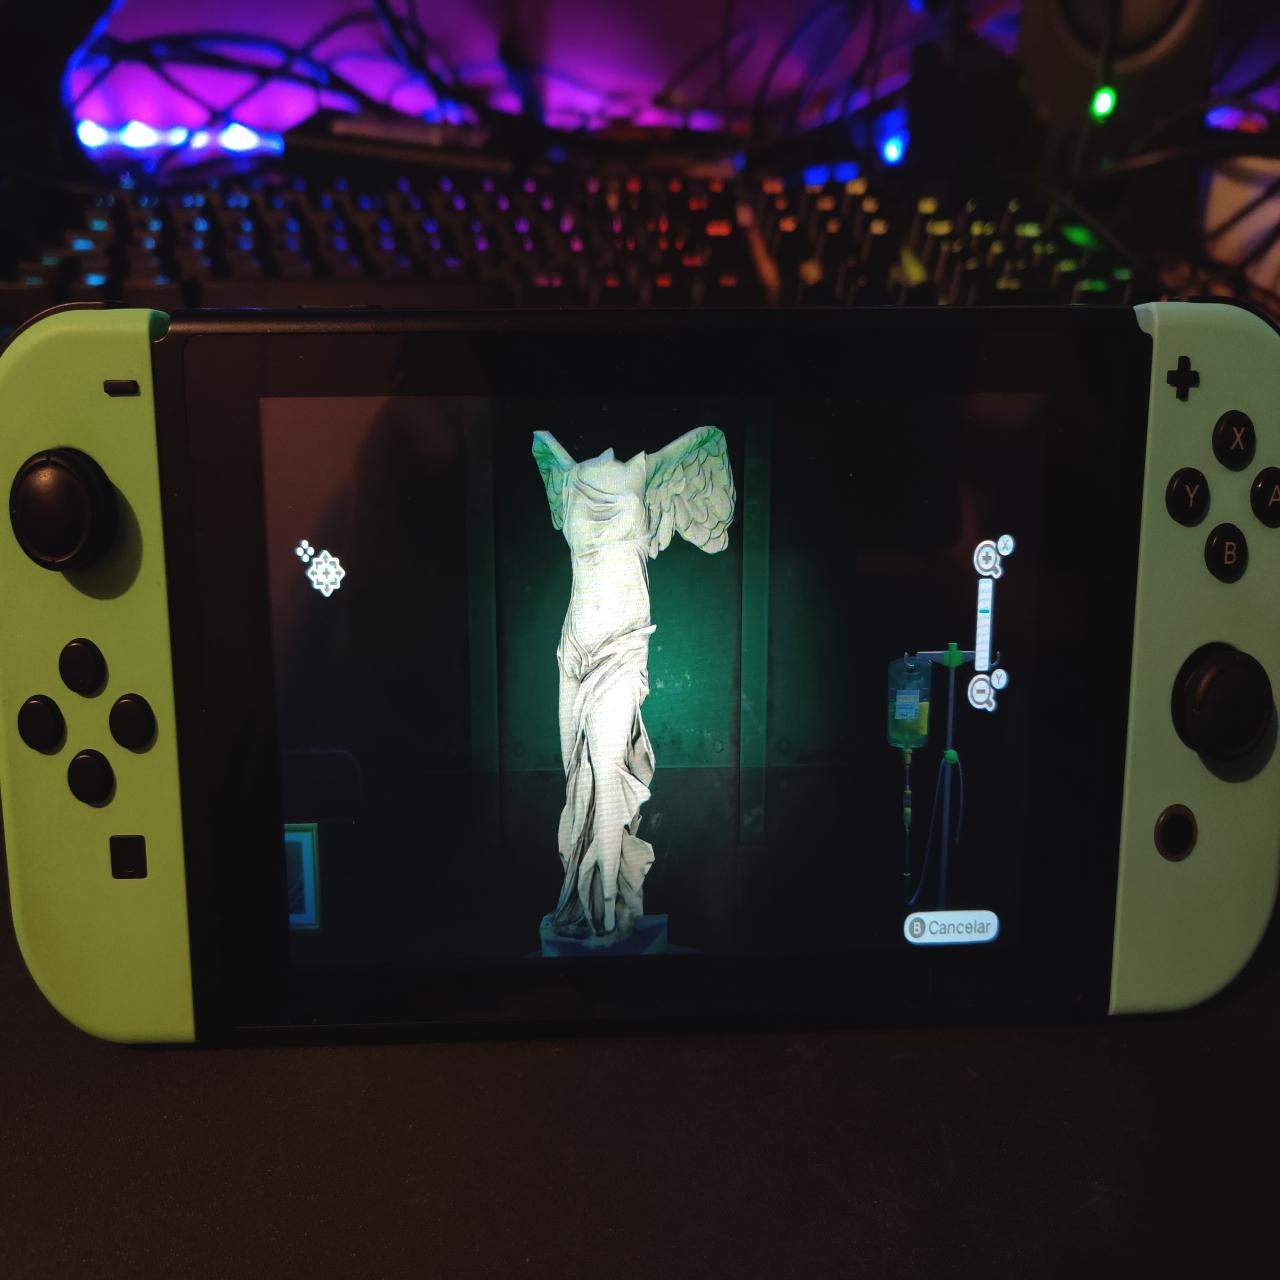SamothraceFake: (525, 422, 745, 952)
